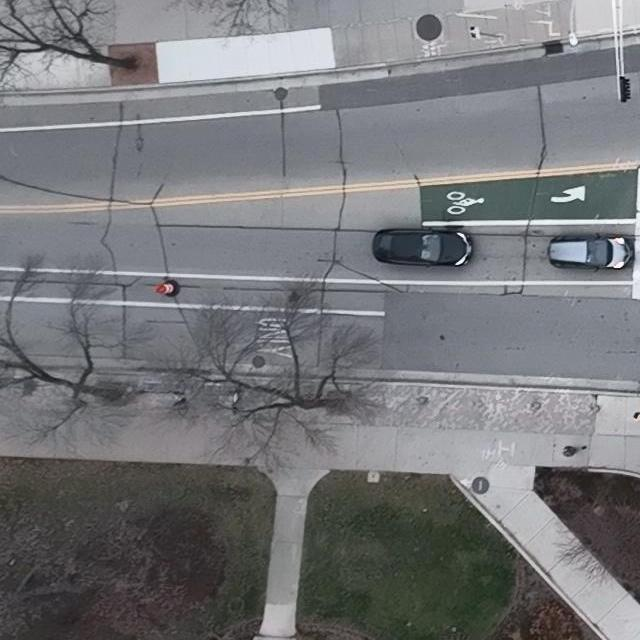car: (373, 226, 473, 267), (548, 233, 633, 273)
